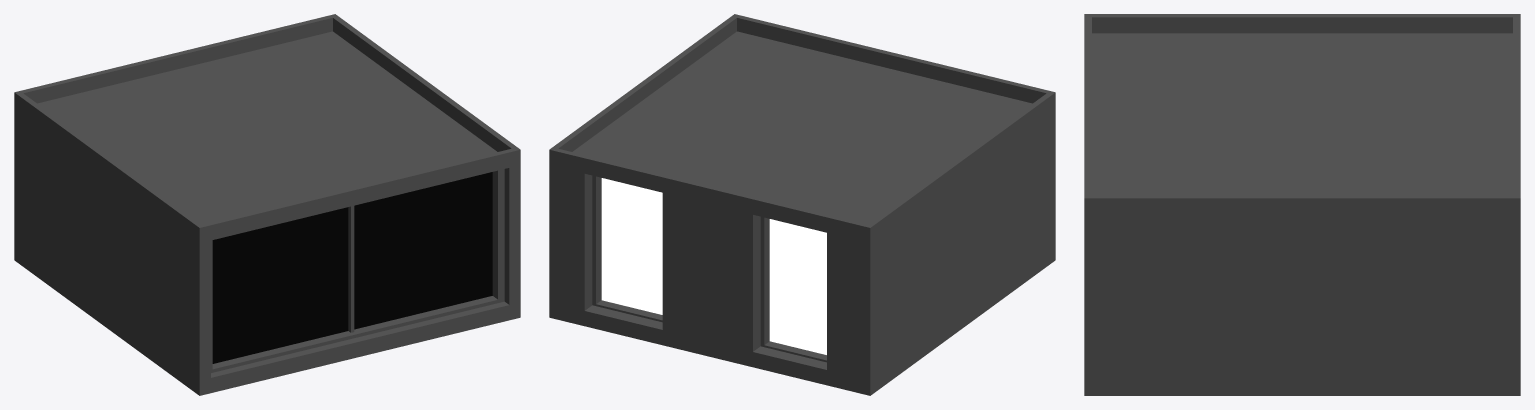
The model's file is immeuble5Haut.fbx.
The picture shows the model from 3 angles, left to right: view 1: azimuth 30°, elevation 25°; view 2: azimuth 150°, elevation 25°; view 3: azimuth 270°, elevation 25°; orthographic projection. The views are drawn at different scales.
Visible parts, largest first — view 1: Cube.014; view 2: Cube.014; view 3: Cube.014.
Boxes of the visible parts, bbox=[...] form: Cube.014: bbox=[14, 14, 520, 395]; Cube.014: bbox=[549, 14, 1055, 395]; Cube.014: bbox=[1084, 14, 1520, 395].
Size of the model in its own units: 2000 by 1000 by 2000.
